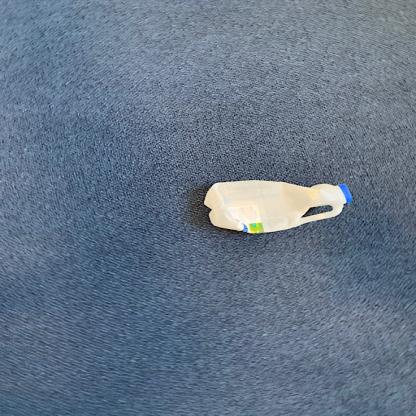trash: (202, 177, 353, 238)
